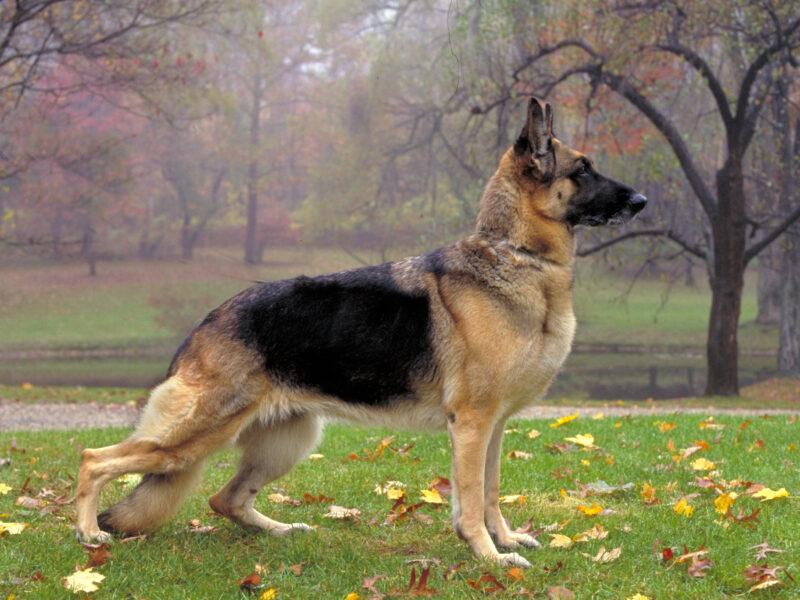german_shepherd: (473, 89, 665, 253)
